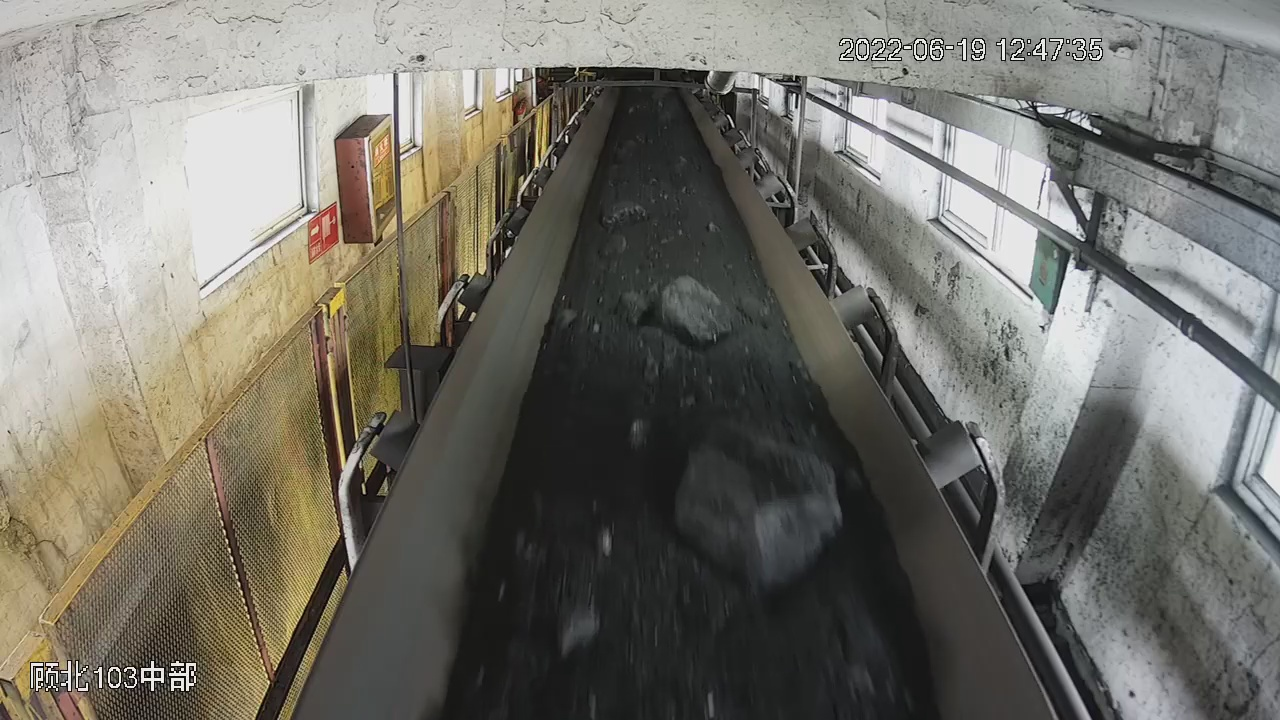gangue: (677, 425, 841, 583), (623, 275, 731, 345), (557, 599, 599, 654), (607, 199, 646, 226), (552, 304, 577, 331), (599, 237, 630, 255), (631, 418, 644, 446), (599, 530, 612, 553)
